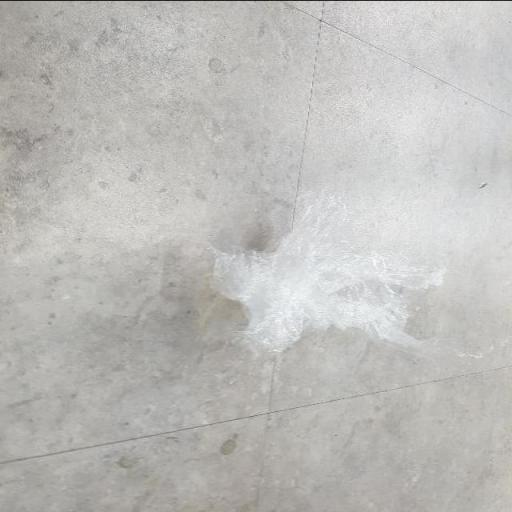plastic-bag: (198, 181, 512, 366)
